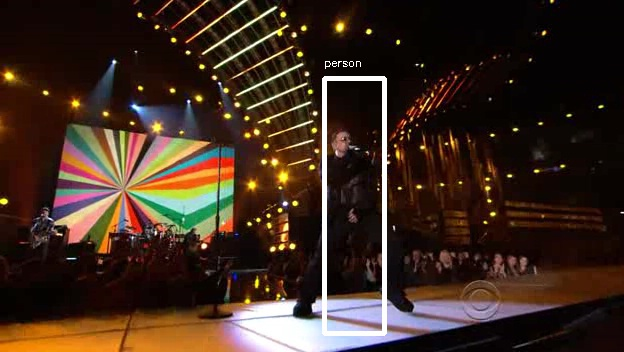person: (319, 129, 384, 245), (316, 129, 381, 245), (322, 129, 387, 245), (319, 126, 384, 242), (319, 132, 384, 248)
target_negative: (160, 159, 596, 193), (271, 328, 610, 348), (310, 217, 497, 252), (123, 57, 480, 73), (111, 145, 132, 307), (610, 241, 618, 339)
